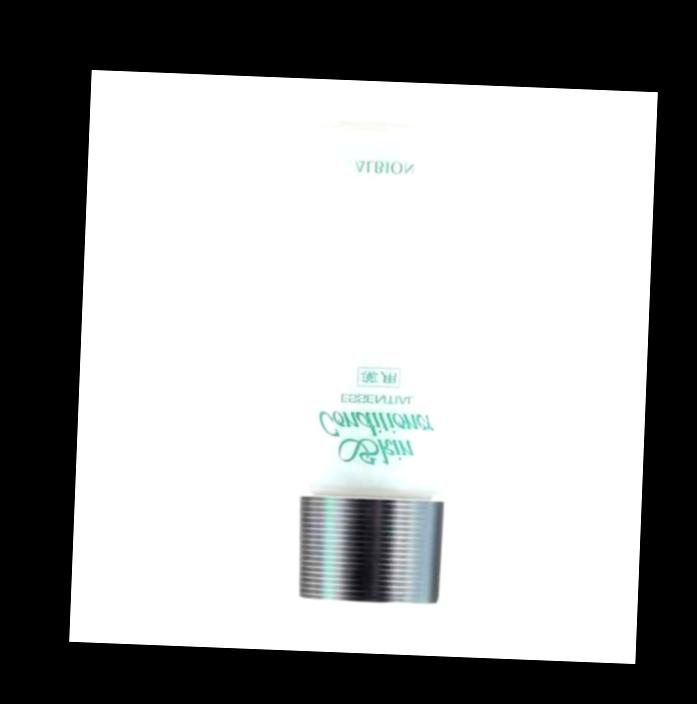cosmetic: (288, 119, 460, 607)
